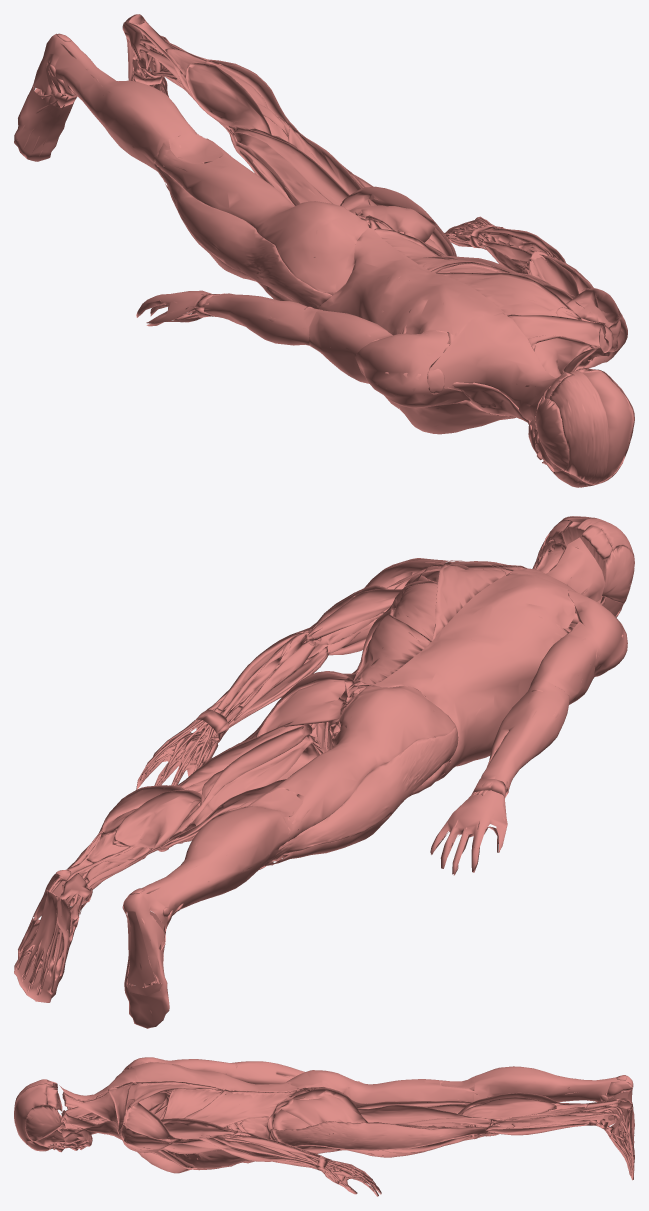
File: overview__muscular.faf5d5f609.glb
3 views of the same model, one above another, from view 1: azimuth 30°, elevation 25°; view 2: azimuth 150°, elevation 25°; view 3: azimuth 270°, elevation 25° (orthographic). The views are drawn at different scales.
Parts seen in each view (by area): view 1: Z00650, Z00387, Z01035, Z02250, Z00866, Z00423, Z00531, Z00101, Z01362, Z00441, Z00232, Z00798 (+17 smaller); view 2: Z01035, Z00650, Z00387, Z00866, Z01133, Z00101, Z00798, Z01362, Z00490, Z00232, Z00441, Z00423 (+22 smaller); view 3: Z00865, Z00387, Z01133, Z00650, Z00798, Z01035, Z01217, Z01084, Z00101, Z00626, Z02013, Z02378 (+40 smaller).
Boxes of the visible parts, x1,y1,x2,y2 form: Z00650: (155,138,368,301); Z00387: (14,33,201,183); Z01035: (318,228,503,409); Z02250: (429,315,558,429); Z00866: (154,162,332,308); Z00423: (355,331,468,407); Z00531: (549,370,609,485); Z00101: (204,293,322,345); Z01362: (186,63,271,134); Z00441: (436,272,581,320); Z00232: (308,310,392,383); Z00798: (342,188,435,242); Z01035: (374,575,575,781); Z00650: (248,685,455,864); Z00387: (123,806,289,1028); Z00866: (267,723,458,862); Z01133: (353,580,437,685); Z00101: (480,680,569,788); Z00798: (257,671,354,736); Z01362: (112,790,201,848); Z00490: (430,790,507,874); Z00232: (530,621,597,704); Z00441: (432,561,514,640); Z00423: (568,590,627,676); Z00865: (273,1121,492,1150); Z00387: (474,1066,634,1145); Z01133: (162,1088,296,1127); Z00650: (285,1070,473,1103); Z00798: (280,1088,367,1125); Z01035: (132,1062,297,1091); Z01217: (358,1105,492,1126); Z01084: (460,1097,556,1125); Z00101: (226,1061,304,1084); Z00626: (174,1119,272,1169); Z02013: (124,1102,179,1141); Z02378: (25,1104,62,1141).
Size of the model in its own units: 649 by 260 by 1647.
